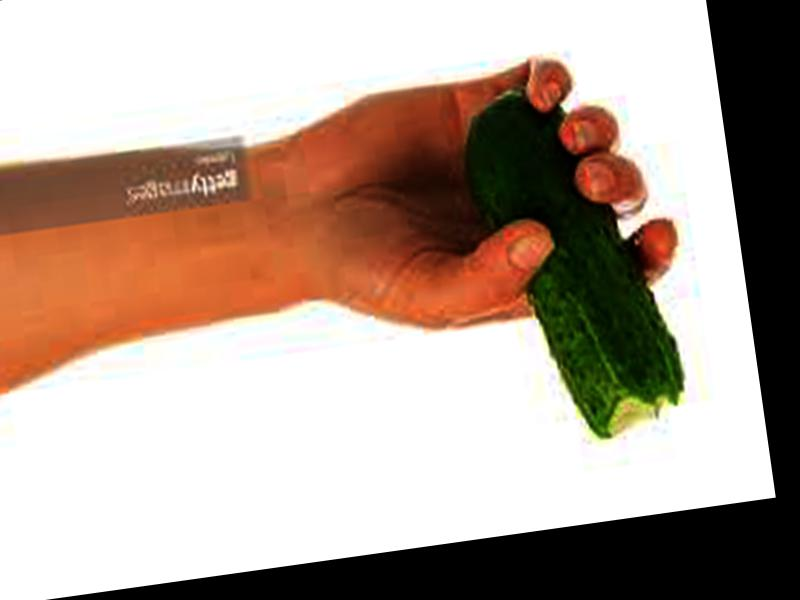Cucumber: (458, 75, 688, 451)
